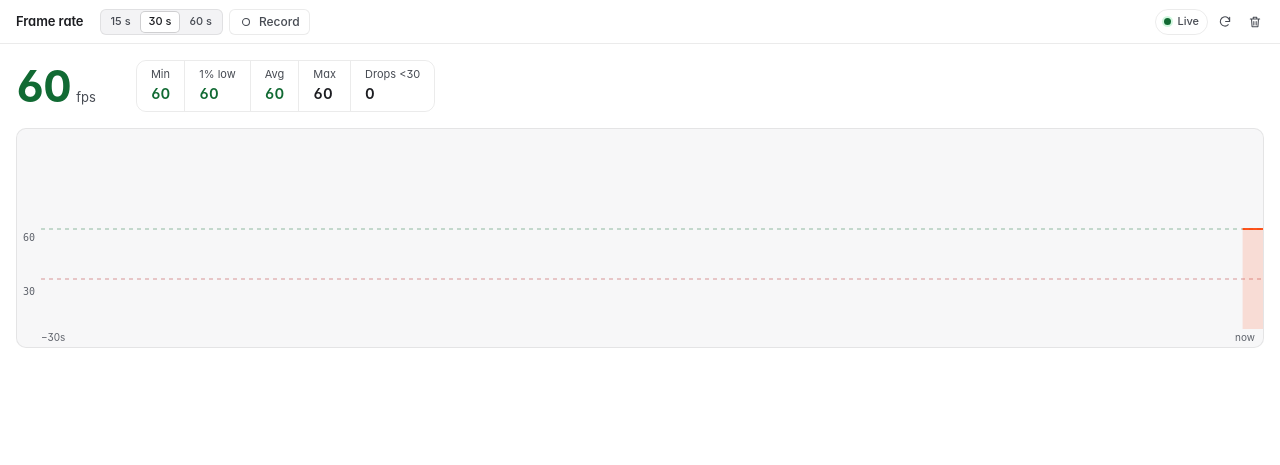
Test: FpsMonitor › records a window and summarises it after stopping
The image size is (1280, 465).
Click the button "Record": (269,22) 229,8 -> 310,34
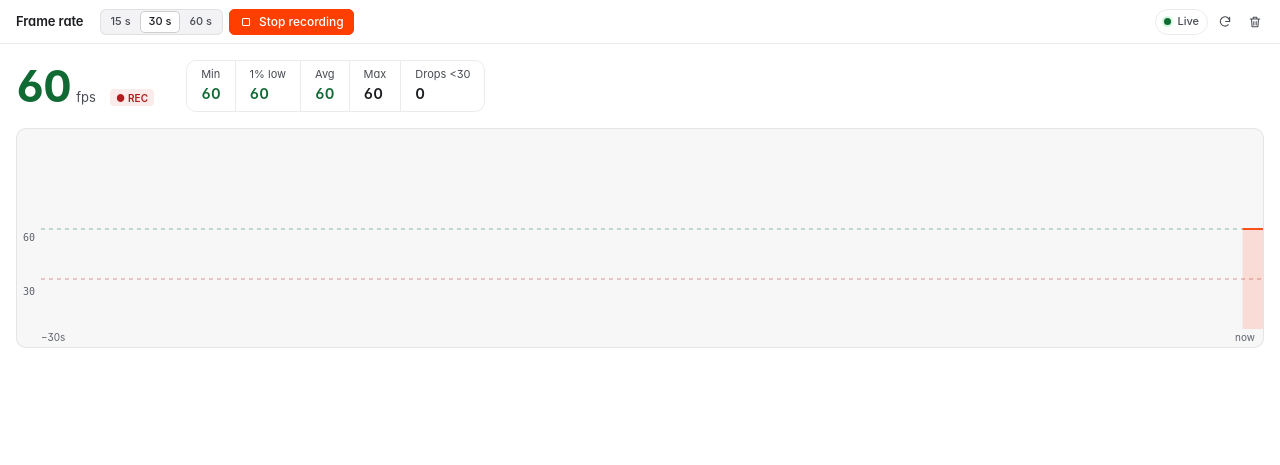
Now the button "Stop recording" is shown, box 229,8 -> 354,34
Now the text "● REC" is shown, box 110,89 -> 154,106
Click the button named "Refresh": (1225,22) 1212,8 -> 1238,34
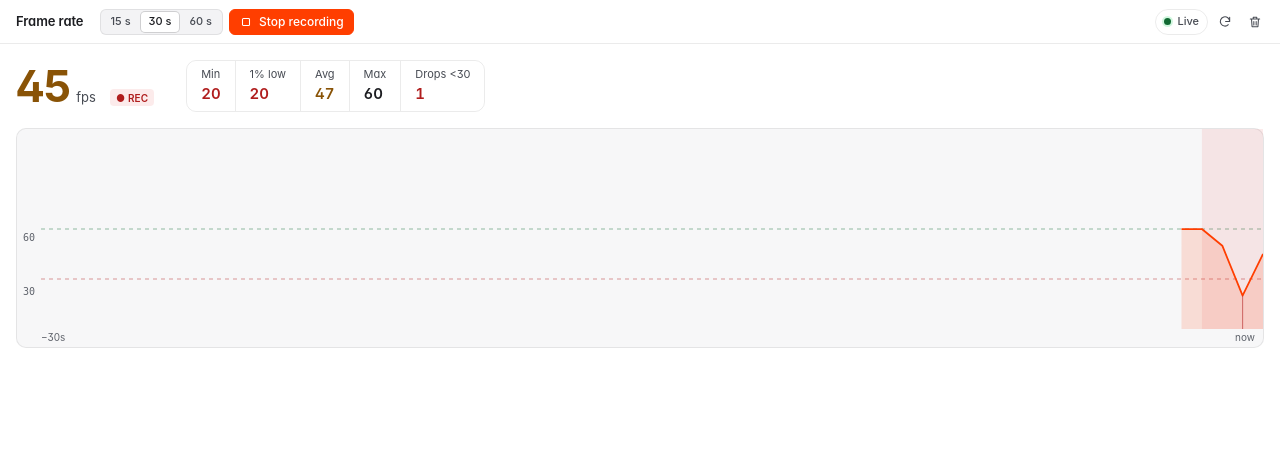
Expected: the element with class "region" is shown, 1202,129 -> 1263,329
Click the button "Stop recording": (291,22) 229,8 -> 354,34
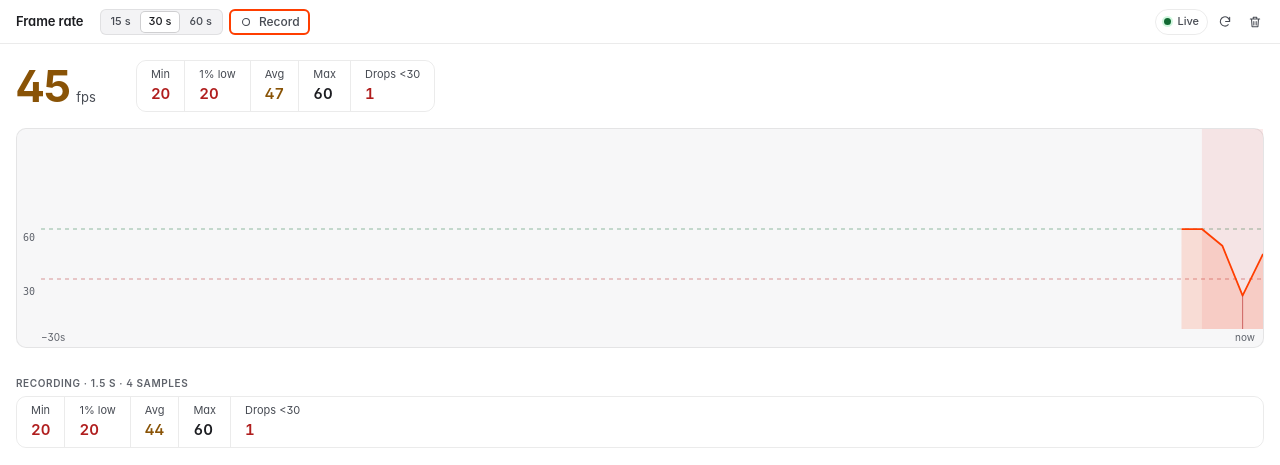
Now the element named "Recording result" shows "Recording · 1.5 s · 4 samples", box 16,377 -> 188,389
Now the text "● REC" is gone
